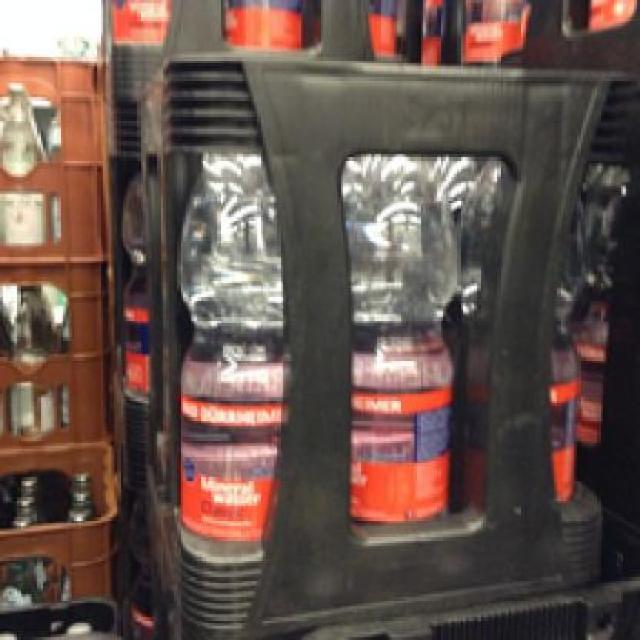Water: (338, 149, 462, 520), (174, 154, 274, 552)
